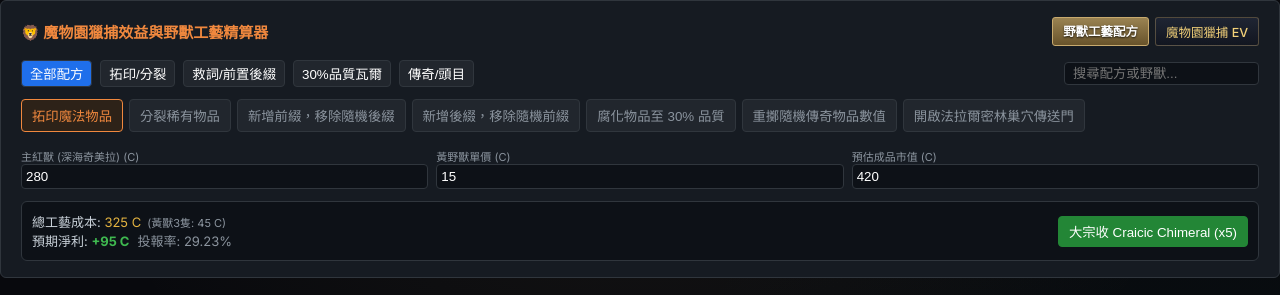
BestiaryCraftCard › should switch mission tiers and update values in mission tab
What coordinates should you click on to do the following:
click the button "魔物園獵捕 EV"
I would click on:
 (1207, 32)
Its box is [1155,17,1259,46].
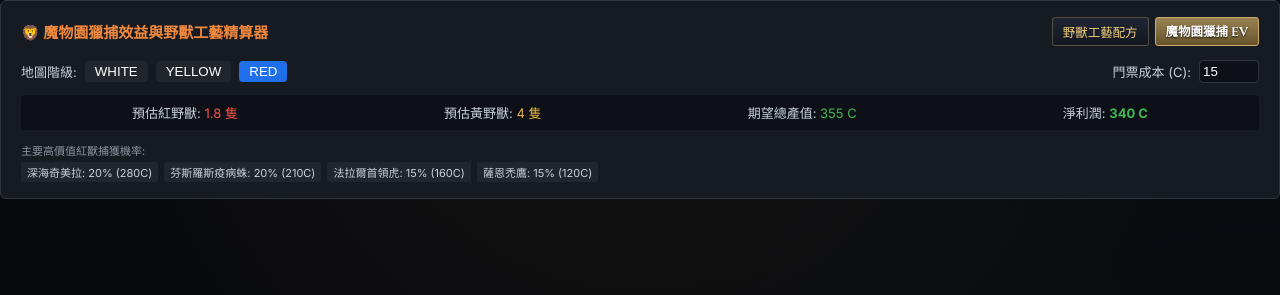
What coordinates should you click on to do the following:
click the button "WHITE"
I would click on:
 (116, 72)
Its box is [85,61,148,82].
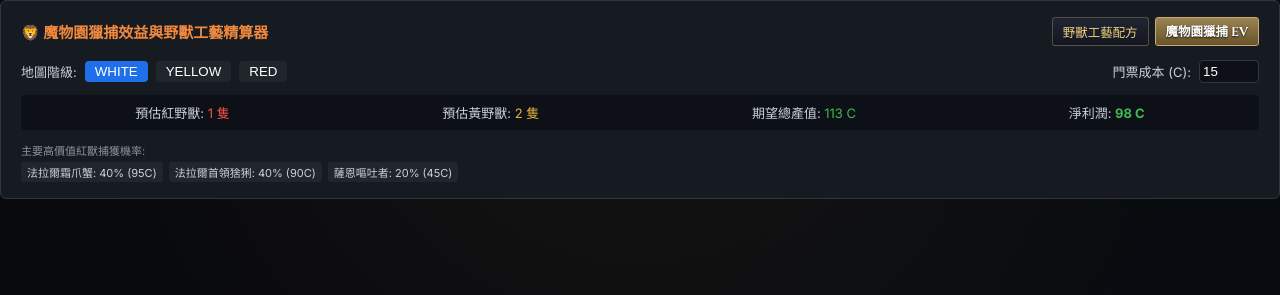
Expected: the text "1 隻" is shown, [208,105,230,121]
